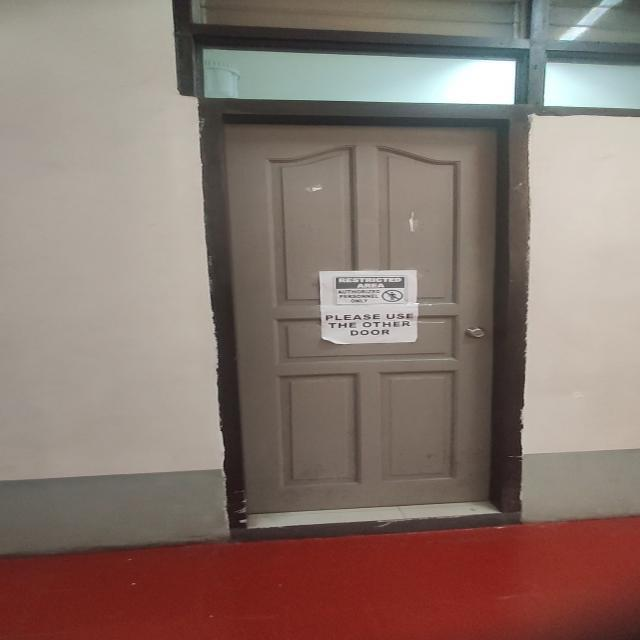door: (194, 99, 532, 548)
